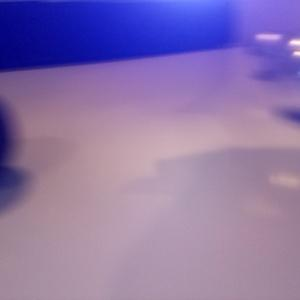alive_ball: (268, 33, 300, 115), (245, 31, 288, 75)
dead_ball: (1, 97, 22, 174)
